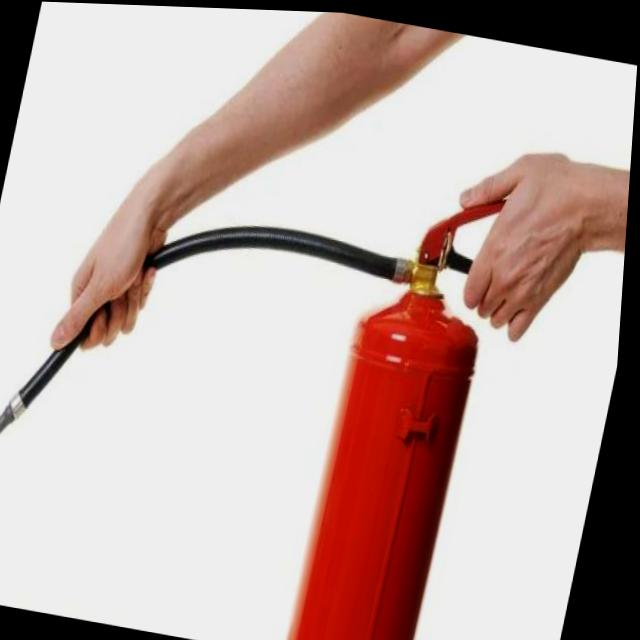FireExtinguisher: (0, 107, 565, 640)
